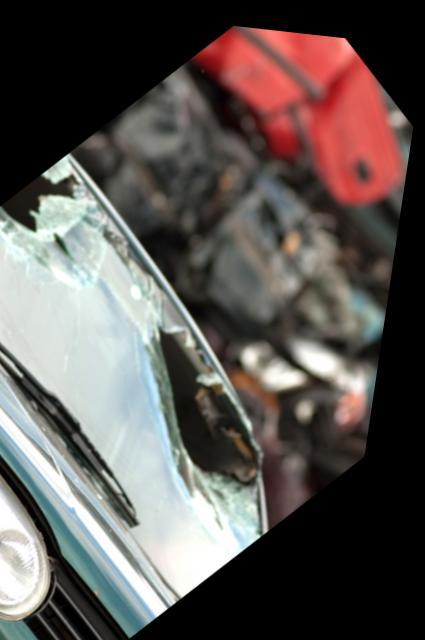glass shatter: (0, 153, 278, 591)
